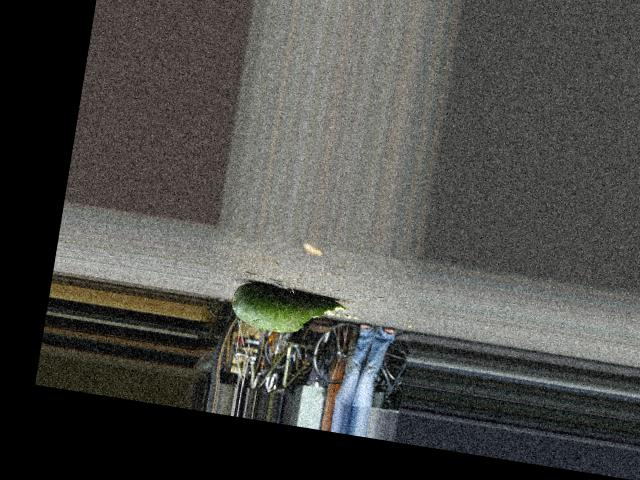cucumber: (228, 280, 349, 342)
